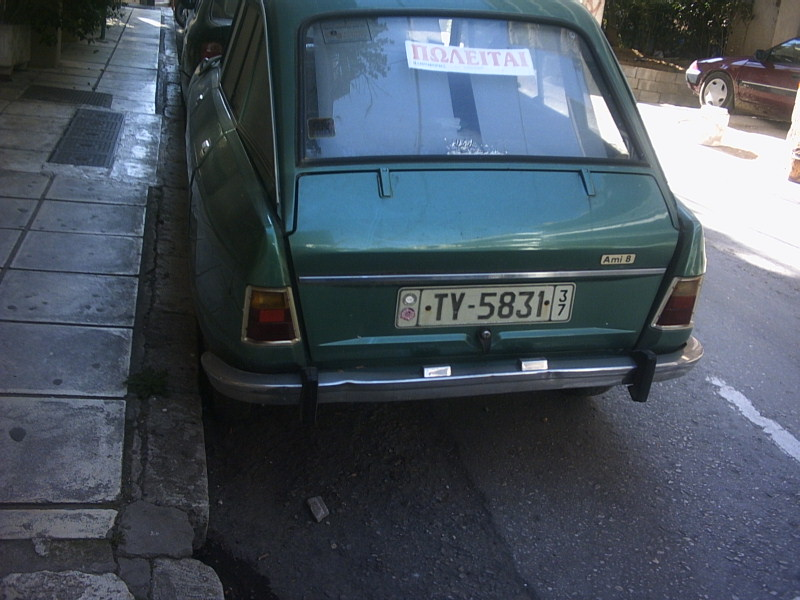licenseplate: (395, 285, 575, 325)
